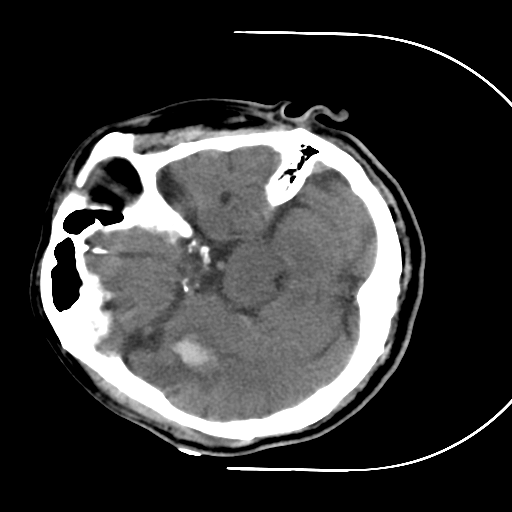a: (153, 310, 236, 401)
